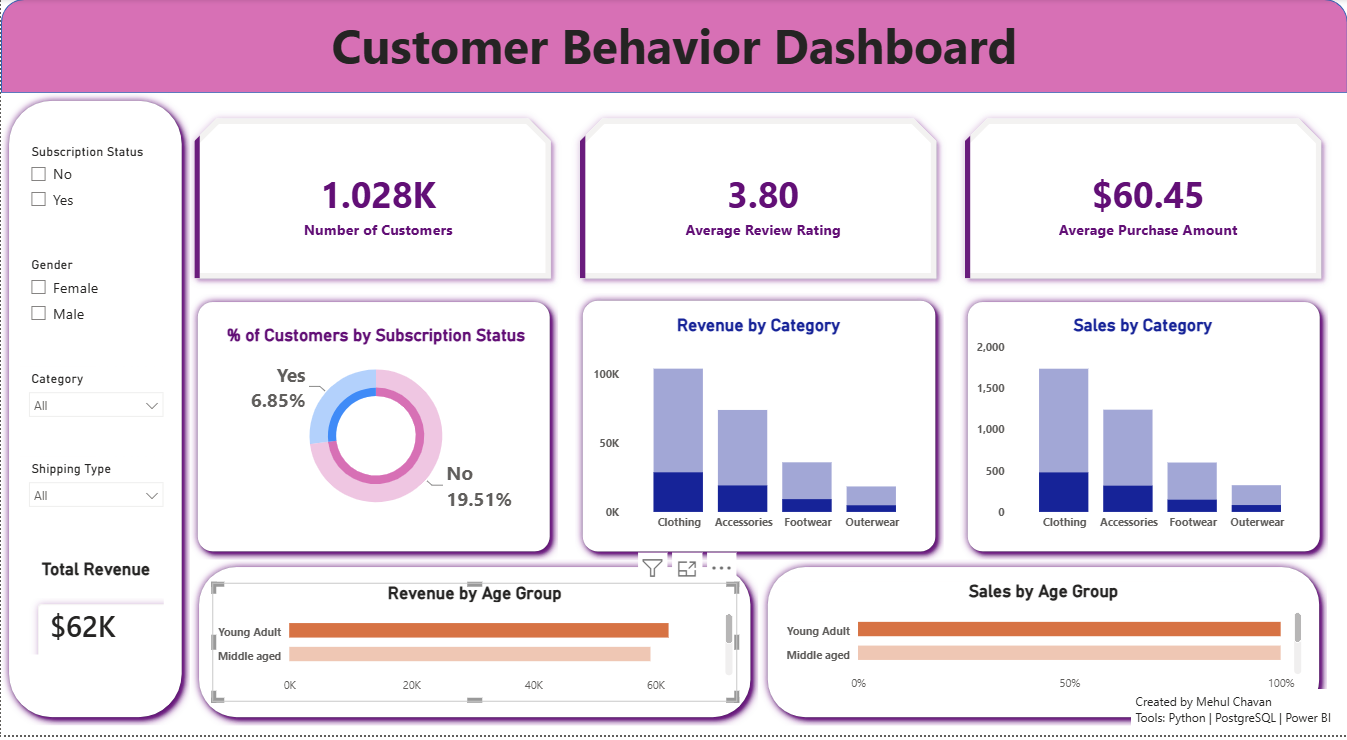

The page's visual inventory and layout, read from the dashboard file:
{"tool":"powerbi","page":{"name":"Page 1","canvas":[1500,820],"ordinal":0},"visuals":[{"type":"cardVisual","fields":{"Data":["public customer_data.Number of Customers","public customer_data.Average Review Rating","public customer_data.Average Purchase Amount"]},"box":[186.5,104.5,1313.8,236.4],"z":0},{"type":"shape","box":[0,0,1500.3,104.5],"z":1000},{"type":"textbox","box":[0,9.6,1500.3,94.9],"z":2000},{"type":"shape","box":[210.7,328,410.1,295.9],"z":3000},{"type":"donutChart","title":"% of Customers by Subscription Status","fields":{"Category":["public customer_data.subscription_status"],"Y":["CountNonNull(public customer_data.customer_id)"]},"box":[234.8,363.4,365,225.1],"z":4000},{"type":"shape","box":[1067.8,328,410.1,295.9],"z":5000},{"type":"shape","box":[638.8,327.1,410.9,297.2],"z":6000},{"type":"clusteredColumnChart","title":"Revenue by Category","fields":{"Y":["Sum(public customer_data.purchase_amount)"],"Category":["public customer_data.category"]},"box":[654.6,352.3,378.8,249.3],"z":7000},{"type":"clusteredColumnChart","title":"Sales by Category","fields":{"Y":["CountNonNull(public customer_data.customer_id)"],"Category":["public customer_data.category"]},"box":[1082.1,352.3,380.2,249.3],"z":8000},{"type":"shape","box":[0,104.5,210.3,704.7],"z":9000},{"type":"slicer","fields":{"Values":["public customer_data.subscription_status"]},"box":[20.9,156,169.9,91.9],"z":10000},{"type":"slicer","fields":{"Values":["public customer_data.gender"]},"box":[20.9,282.7,169.9,91.9],"z":11000},{"type":"slicer","fields":{"Values":["public customer_data.category"]},"box":[20.9,409.4,169.9,91.9],"z":12000},{"type":"slicer","fields":{"Values":["public customer_data.shipping_type"]},"box":[20.9,509.7,169.9,91.9],"z":13000},{"type":"shape","box":[211.7,623.9,632.3,185.2],"z":14000},{"type":"shape","box":[845.4,623.9,632.3,185.2],"z":15000},{"type":"clusteredBarChart","title":"Revenue by Age Group","fields":{"Y":["Sum(public customer_data.purchase_amount)"],"Category":["public customer_data.age_group"]},"box":[235.4,650.4,584.9,132.3],"z":16000},{"type":"hundredPercentStackedBarChart","title":"Sales by Age Group","fields":{"Category":["public customer_data.age_group"],"Y":["CountNonNull(public customer_data.customer_id)"]},"box":[869,649,584.9,132.3],"z":17000},{"type":"cardVisual","title":"Total Revenue","fields":{"Data":["public customer_data.Total Revenue"]},"box":[12.5,623.9,186.6,123.9],"z":17001},{"type":"textbox","box":[1259,768.8,240.9,51.5],"z":17002}]}

Visuals, with their boxes in screenshot pixels (x1, y1, x2, y2), scaled from the page's 1500x820 canvas onto the 1347x740 screenshot:
cardVisual - public customer_data.Number of Customers x public customer_data.Average Review Rating: crop(167, 94, 1346, 308)
shape: crop(0, 0, 1346, 94)
textbox: crop(0, 9, 1346, 94)
shape: crop(189, 296, 557, 563)
"% of Customers by Subscription Status" donutChart: crop(211, 328, 539, 531)
shape: crop(959, 296, 1327, 563)
shape: crop(574, 295, 943, 563)
"Revenue by Category" clusteredColumnChart: crop(588, 318, 928, 543)
"Sales by Category" clusteredColumnChart: crop(972, 318, 1313, 543)
shape: crop(0, 94, 189, 730)
slicer - public customer_data.subscription_status: crop(19, 141, 171, 224)
slicer - public customer_data.gender: crop(19, 255, 171, 338)
slicer - public customer_data.category: crop(19, 369, 171, 452)
slicer - public customer_data.shipping_type: crop(19, 460, 171, 543)
shape: crop(190, 563, 758, 730)
shape: crop(759, 563, 1327, 730)
"Revenue by Age Group" clusteredBarChart: crop(211, 587, 737, 706)
"Sales by Age Group" hundredPercentStackedBarChart: crop(780, 586, 1306, 705)
"Total Revenue" cardVisual: crop(11, 563, 179, 675)
textbox: crop(1131, 694, 1346, 739)
